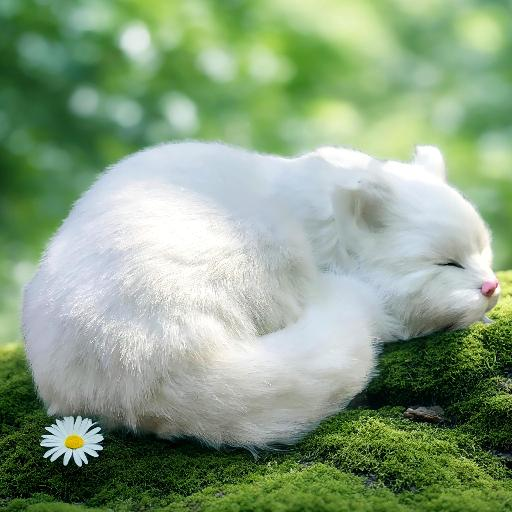cat_sleeping: (22, 142, 501, 451)
